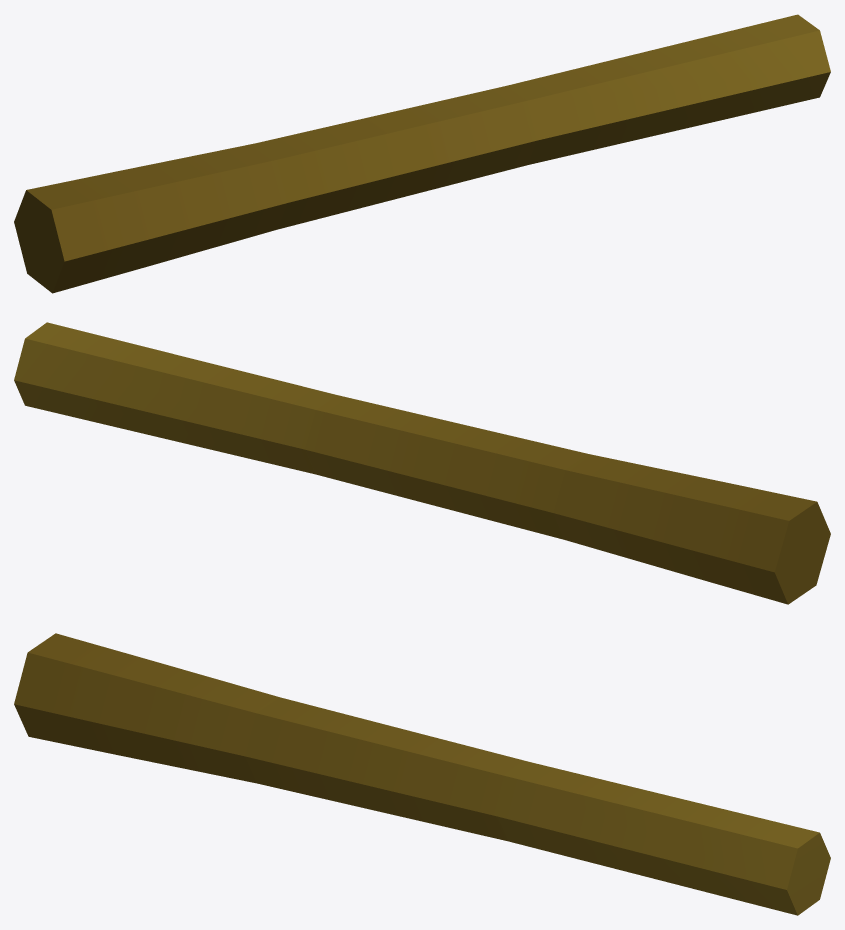
The model's file is stick_2.glb.
3 views of the same model, one above another, from view 1: azimuth 30°, elevation 25°; view 2: azimuth 150°, elevation 25°; view 3: azimuth 330°, elevation 25° (orthographic).
Visible parts, largest first — view 1: stick_2; view 2: stick_2; view 3: stick_2.
Part boxes in pixels (box(x1,y1,x2,y2)): stick_2: box(14, 14, 830, 293); stick_2: box(14, 322, 830, 604); stick_2: box(14, 633, 830, 915).
Bounding box in the file's own units: 1.02 × 0.1063 × 0.1227.
1 material, 1 textured.
